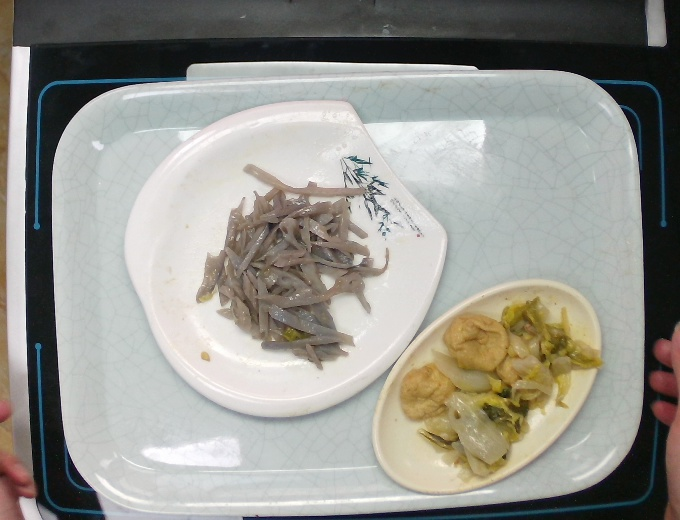JYsf-Mian_Pan: (122, 96, 450, 416)
JYsf-Tuo_Yuan_Wan: (370, 275, 604, 495)
